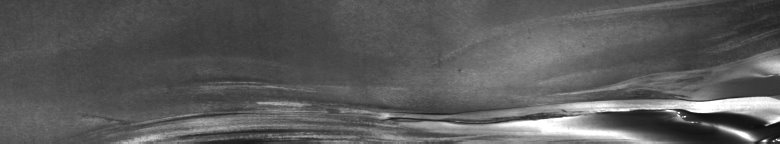ke: (132, 48, 776, 136)
